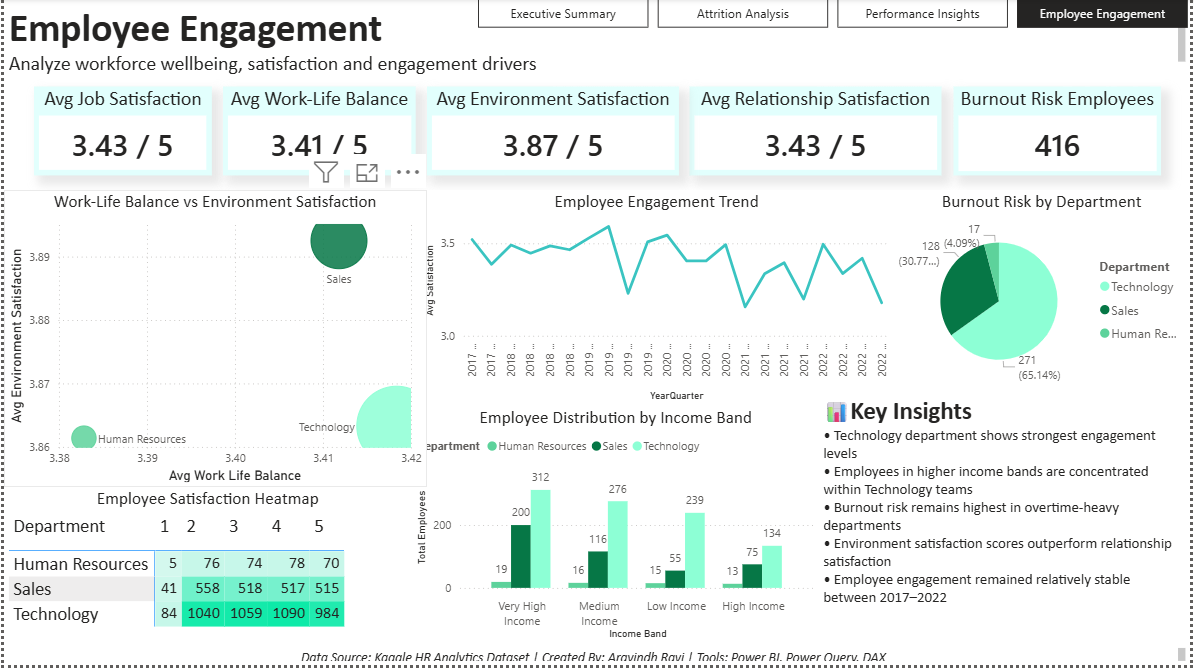

What the dashboard file says about the page in this screenshot:
{"tool":"powerbi","page":{"name":"Employee Engagement","canvas":[1280,720],"ordinal":3},"visuals":[{"type":"textbox","box":[0,0,1280,88],"z":0},{"type":"cardVisual","title":"Avg Job Satisfaction","fields":{"Data":["Measure.Avg Satisfaction Display"]},"box":[32,96,192,96],"z":1000,"group":"g1"},{"type":"textbox","box":[0,696,1280,24],"z":1000},{"type":"group","id":"g1","title":"Group 1","box":[32,96,1216,96],"z":2000},{"type":"cardVisual","title":"Avg Relationship Satisfaction","fields":{"Data":["Measure.Avg Relationship Satisfaction Display"]},"box":[740,96,272,96],"z":2000,"group":"g1"},{"type":"cardVisual","title":"Burnout Risk Employees","fields":{"Data":["Measure.Burnout Risk Employees"]},"box":[1024,96,224,96],"z":3000,"group":"g1"},{"type":"pivotTable","title":"Employee Satisfaction Heatmap","fields":{"Rows":["DimEmployee.Department"],"Columns":["FactPerformance.JobSatisfaction"],"Values":["CountNonNull(FactPerformance.PerformanceID)"]},"box":[0,528,440,168],"z":3000},{"type":"cardVisual","title":"Avg Work-Life Balance","fields":{"Data":["Measure.Avg Work Life Balance Display"]},"box":[236,96,208,96],"z":4000,"group":"g1"},{"type":"pieChart","title":"Burnout Risk by Department","fields":{"Category":["DimEmployee.Department"],"Y":["Measure.Burnout Risk Employees"]},"box":[960,208,320,216],"z":4000},{"type":"cardVisual","title":"Avg Environment Satisfaction","fields":{"Data":["Measure.Avg Environment Satisfaction Display"]},"box":[456,96,272,96],"z":5000,"group":"g1"},{"type":"lineChart","title":"Employee Engagement Trend","fields":{"Category":["DimDate.YearQuarter"],"Y":["Measure.Avg Satisfaction"]},"box":[448,208,512,232],"z":5000},{"type":"clusteredColumnChart","title":"Employee Distribution by Income Band","fields":{"Category":["DimEmployee.Income Band"],"Series":["DimEmployee.Department"],"Y":["Measure.Total Employees"]},"box":[440,440,440,256],"z":6000},{"type":"scatterChart","title":"Work-Life Balance vs Environment Satisfaction","fields":{"X":["Measure.Avg Work Life Balance"],"Y":["Measure.Avg Environment Satisfaction"],"Series":["DimEmployee.Department"],"Size":["Measure.Total Employees"]},"box":[0,208,456,320],"z":7000},{"type":"textbox","box":[880,424,400,272],"z":8000},{"type":"pageNavigator","box":[512,0,768,32],"z":9000}]}

Visuals, with their boxes in screenshot pixels (x1, y1, x2, y2), scaled from the page's 1280x720 canvas onto the 1194x669 screenshot:
textbox: box(0, 0, 1193, 82)
"Avg Job Satisfaction" cardVisual: box(30, 89, 209, 178)
textbox: box(0, 647, 1193, 668)
"Group 1" group: box(30, 89, 1164, 178)
"Avg Relationship Satisfaction" cardVisual: box(690, 89, 944, 178)
"Burnout Risk Employees" cardVisual: box(955, 89, 1164, 178)
"Employee Satisfaction Heatmap" pivotTable: box(0, 491, 410, 647)
"Avg Work-Life Balance" cardVisual: box(220, 89, 414, 178)
"Burnout Risk by Department" pieChart: box(896, 193, 1193, 394)
"Avg Environment Satisfaction" cardVisual: box(425, 89, 679, 178)
"Employee Engagement Trend" lineChart: box(418, 193, 896, 409)
"Employee Distribution by Income Band" clusteredColumnChart: box(410, 409, 821, 647)
"Work-Life Balance vs Environment Satisfaction" scatterChart: box(0, 193, 425, 491)
textbox: box(821, 394, 1193, 647)
pageNavigator: box(478, 0, 1193, 30)
